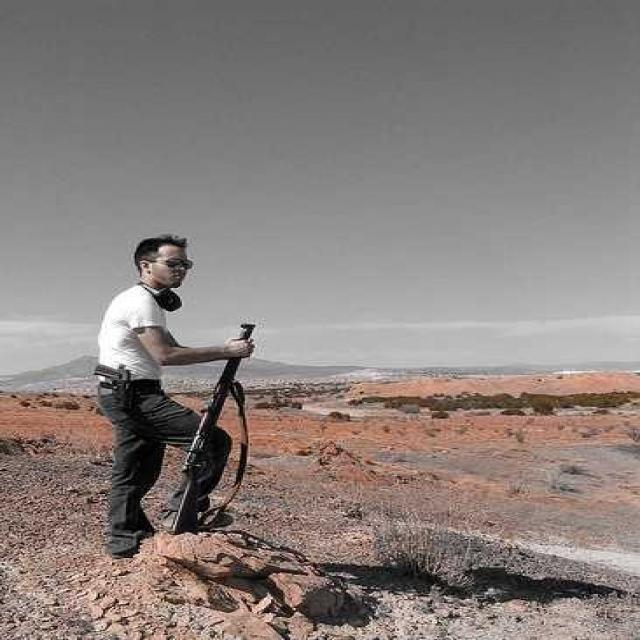weapon: (149, 319, 278, 536)
